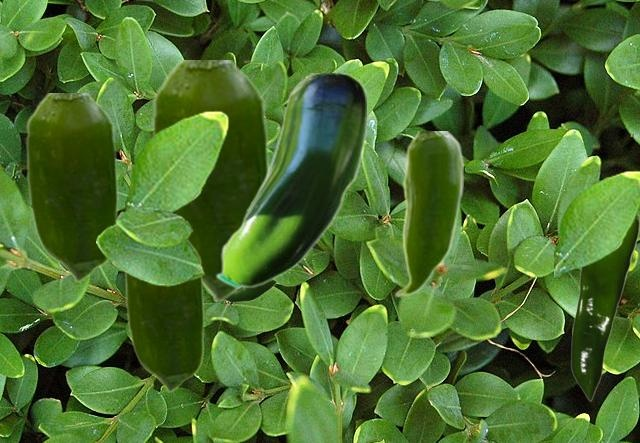green_chili: (214, 73, 365, 288), (151, 60, 269, 301), (25, 93, 117, 281), (570, 215, 638, 400), (124, 238, 203, 391), (393, 131, 462, 297), (213, 281, 276, 302)
